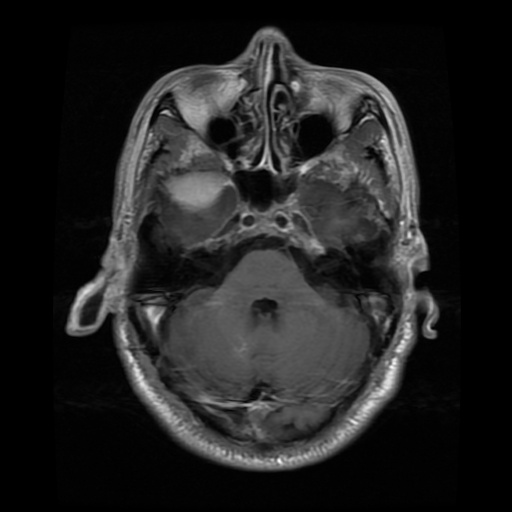meningioma: (161, 170, 231, 211)
